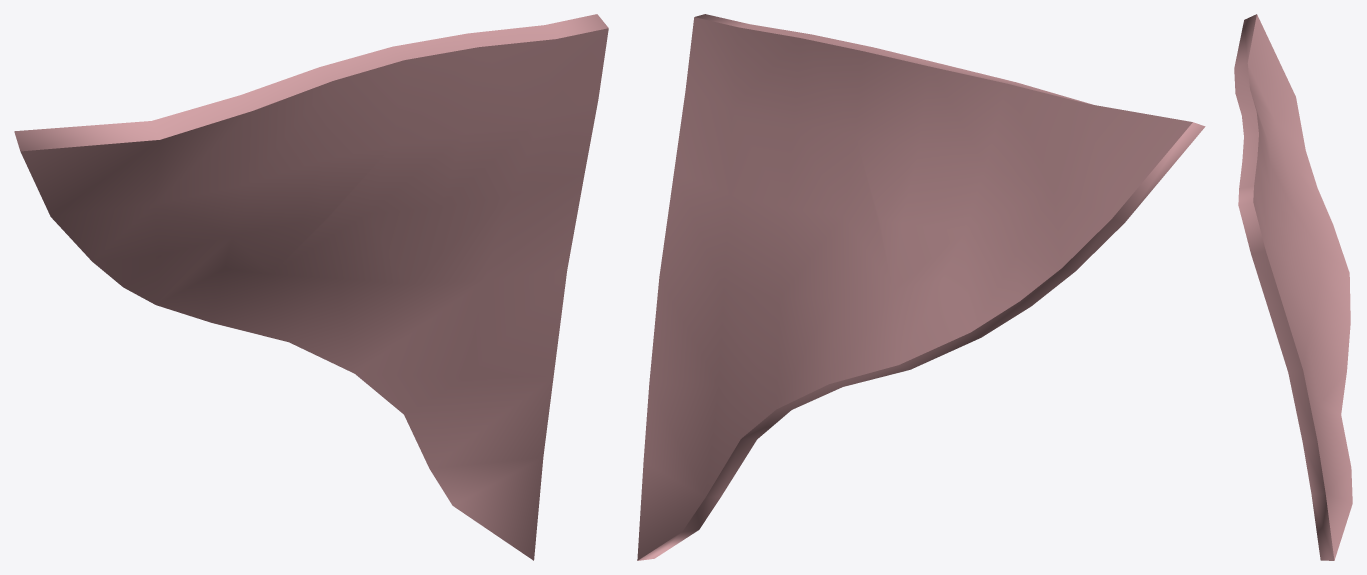
The picture shows the model from 3 angles, left to right: view 1: azimuth 30°, elevation 25°; view 2: azimuth 150°, elevation 25°; view 3: azimuth 270°, elevation 25°; orthographic projection. The views are drawn at different scales.
Parts seen in each view (by area): view 1: ZA_81aab324084d6e7d; view 2: ZA_81aab324084d6e7d; view 3: ZA_81aab324084d6e7d.
Part boxes in pixels (left/top/right/bottom): ZA_81aab324084d6e7d: left=14, top=14, right=608, bottom=560; ZA_81aab324084d6e7d: left=637, top=14, right=1205, bottom=560; ZA_81aab324084d6e7d: left=1234, top=14, right=1352, bottom=560.
Size of the model in its own units: 0.0814 by 0.0808 by 0.0232.
